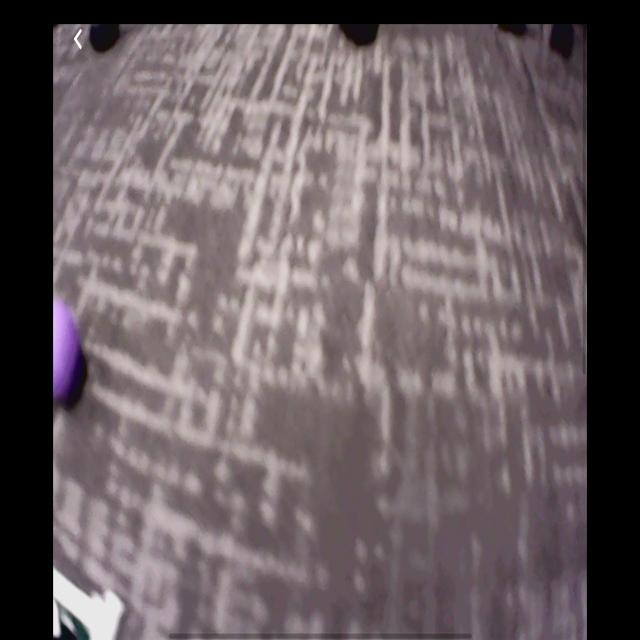ball: (53, 294, 89, 413)
